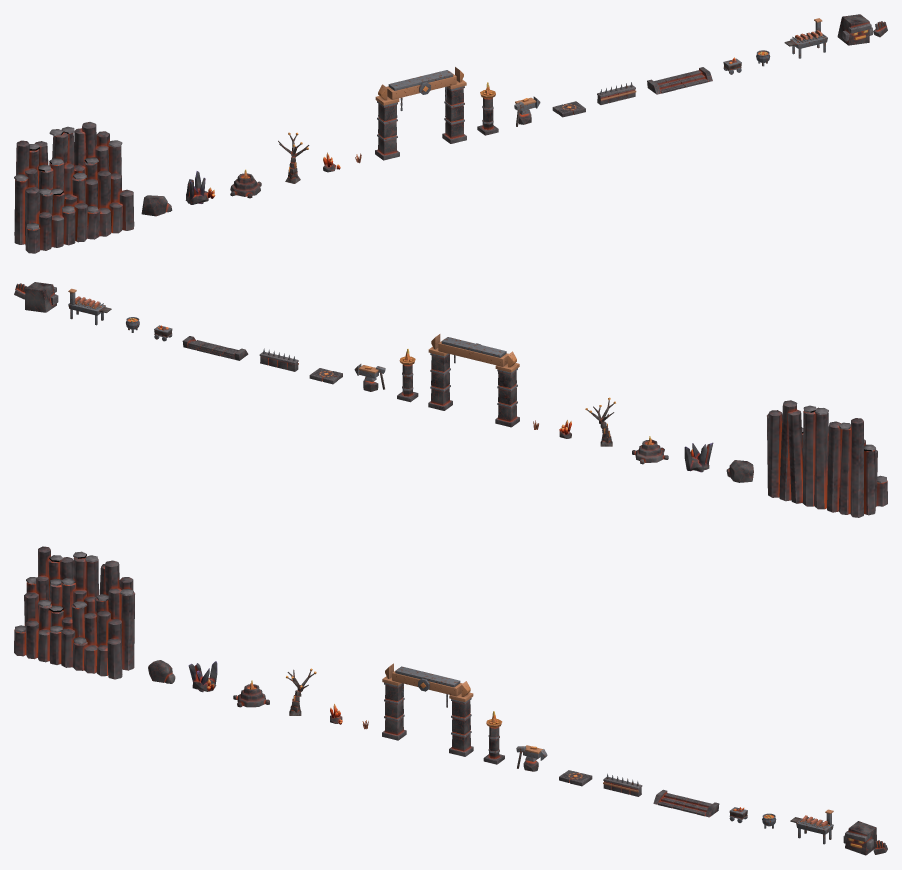
The model's file is Decors_Volcan.fbx.
3 renders of one model, top to bottom at view 1: azimuth 30°, elevation 25°; view 2: azimuth 150°, elevation 25°; view 3: azimuth 330°, elevation 25°, orthographic.
Parts seen in each view (by area): view 1: Volcan_Orgues, Volcan_PorteForge, Volcan_TeteGolem, Volcan_Escalier, Volcan_Grill, Volcan_PilierBrasier, Volcan_Eclats, Volcan_Cheminee, Volcan_Rempart, Volcan_Roche, Volcan_Enclume; view 2: Volcan_Orgues, Volcan_PorteForge, Volcan_TeteGolem, Volcan_Escalier, Volcan_Grill, Volcan_Eclats, Volcan_PilierBrasier, Volcan_Cheminee, Volcan_Enclume, Volcan_Rempart, Volcan_Roche; view 3: Volcan_Orgues, Volcan_PorteForge, Volcan_TeteGolem, Volcan_Escalier, Volcan_Grill, Volcan_Eclats, Volcan_PilierBrasier.
Part boxes in pixels (x1=…): Volcan_Orgues: x1=14, y1=122, x2=134, y2=253; Volcan_PorteForge: x1=375, y1=67, x2=466, y2=160; Volcan_TeteGolem: x1=837, y1=14, x2=887, y2=45; Volcan_Escalier: x1=647, y1=67, x2=712, y2=94; Volcan_Grill: x1=784, y1=18, x2=827, y2=58; Volcan_PilierBrasier: x1=477, y1=82, x2=498, y2=135; Volcan_Eclats: x1=185, y1=171, x2=215, y2=204; Volcan_Cheminee: x1=230, y1=169, x2=261, y2=198; Volcan_Rempart: x1=597, y1=82, x2=636, y2=104; Volcan_Roche: x1=141, y1=195, x2=172, y2=216; Volcan_Enclume: x1=514, y1=96, x2=540, y2=126; Volcan_Orgues: x1=767, y1=400, x2=887, y2=517; Volcan_PorteForge: x1=428, y1=334, x2=519, y2=427; Volcan_TeteGolem: x1=14, y1=282, x2=58, y2=312; Volcan_Escalier: x1=182, y1=336, x2=248, y2=360; Volcan_Grill: x1=68, y1=288, x2=111, y2=325; Volcan_Eclats: x1=684, y1=442, x2=713, y2=472; Volcan_PilierBrasier: x1=397, y1=349, x2=418, y2=402; Volcan_Cheminee: x1=632, y1=436, x2=668, y2=464; Volcan_Enclume: x1=354, y1=364, x2=385, y2=391; Volcan_Rempart: x1=259, y1=348, x2=298, y2=371; Volcan_Roche: x1=726, y1=460, x2=753, y2=482; Volcan_Orgues: x1=14, y1=546, x2=134, y2=679; Volcan_PorteForge: x1=382, y1=663, x2=473, y2=756; Volcan_TeteGolem: x1=843, y1=821, x2=887, y2=855; Volcan_Escalier: x1=653, y1=789, x2=719, y2=817; Volcan_Grill: x1=790, y1=809, x2=833, y2=844; Volcan_Eclats: x1=188, y1=661, x2=217, y2=692; Volcan_PilierBrasier: x1=483, y1=711, x2=504, y2=764.
Size of the model in its own units: 294 by 31.38 by 15.65.
Materials: 17 (17 with a texture image).
